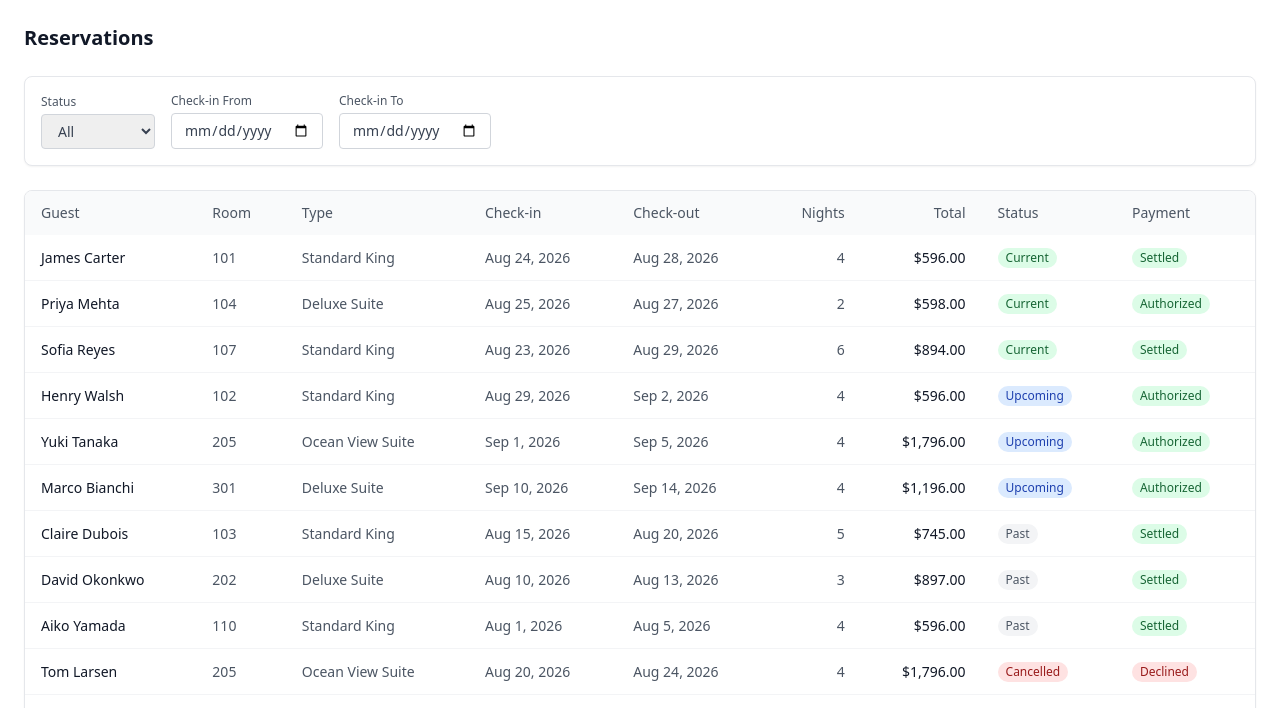
clicking a row expands detail panel with guest email
Step 1. Click the row with test id "reservation-row-res1" → click(640, 258), box [25, 235, 1255, 280]
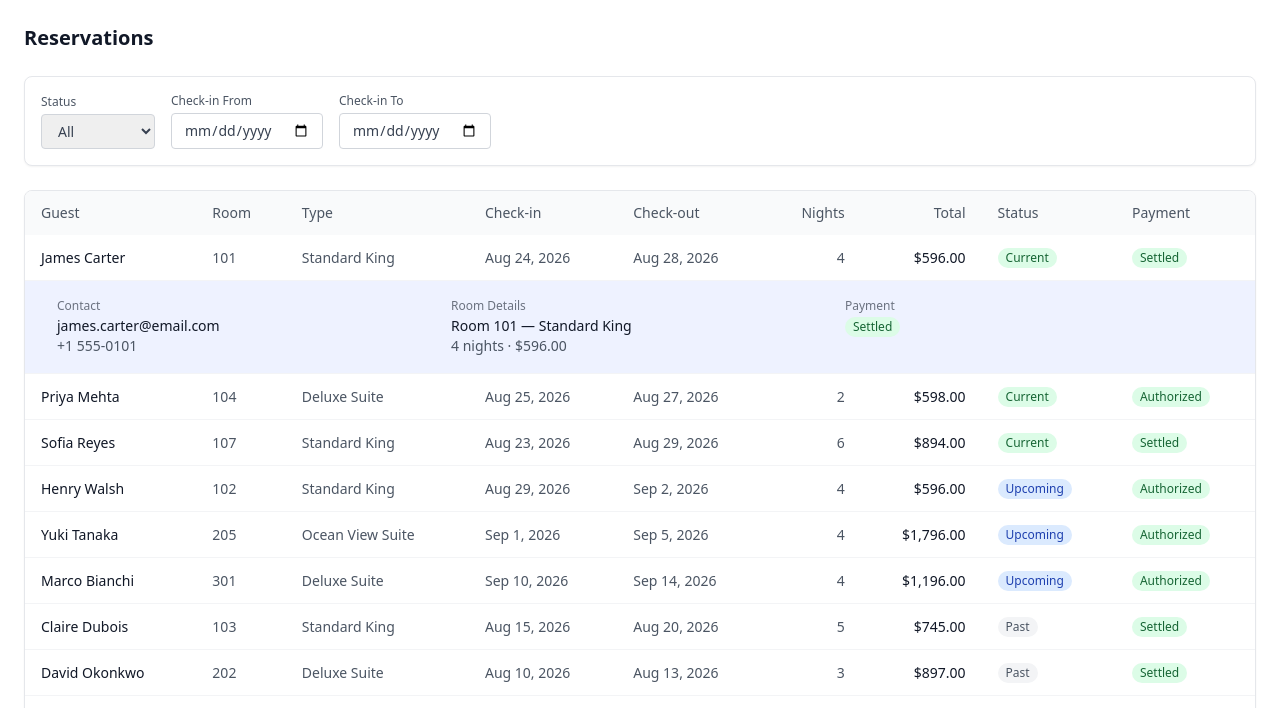
Expected: the row with test id "reservation-detail-res1" is shown, [25, 280, 1255, 374]
Expected: the text "james.carter@email.com" is shown, [57, 316, 220, 335]
